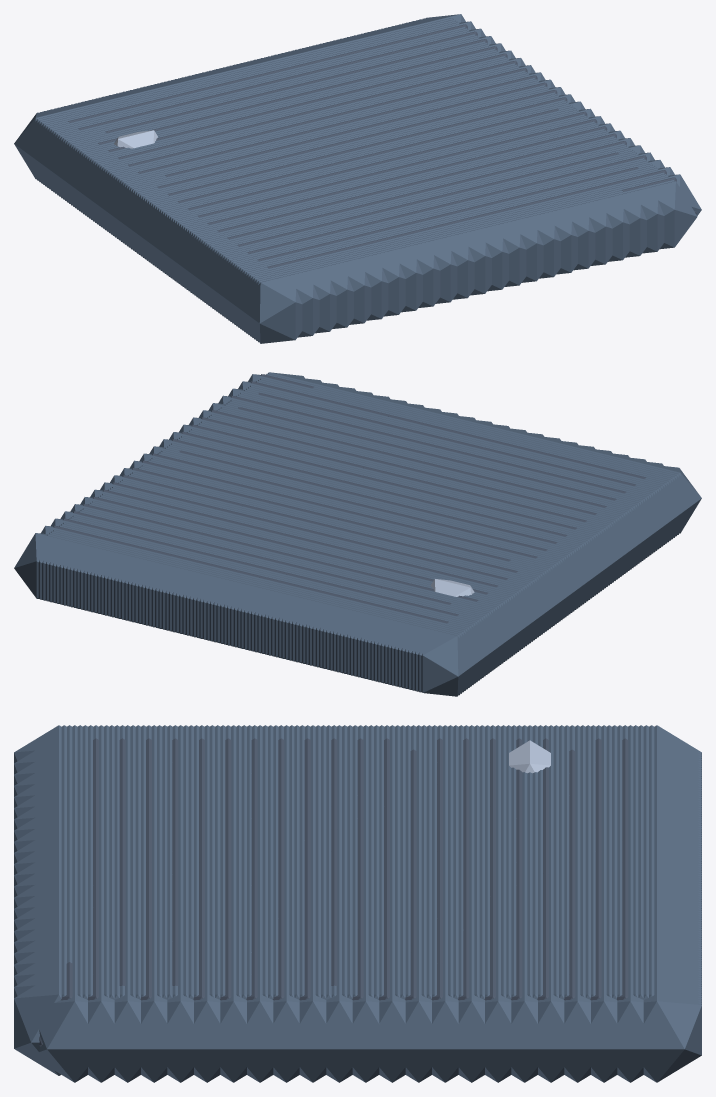
The model's file is Prime_Web_Ulam3D.glb.
3 renders of one model, top to bottom at view 1: azimuth 30°, elevation 25°; view 2: azimuth 150°, elevation 25°; view 3: azimuth 270°, elevation 25°, orthographic. The views are drawn at different scales.
Visible parts, largest first — view 1: grid_x_-56_57, grid_x_54_57, grid_x_14_57, grid_x_49_57, grid_x_-36_57, grid_x_-1_57, grid_x_24_57, grid_x_-21_57, grid_x_-11_57, grid_x_34_57, grid_x_-26_57, grid_x_-46_57 (+17 smaller); view 2: grid_x_-56_-56, grid_z_57_-56, grid_x_-56_57, grid_x_-56_0, grid_x_29_-56, grid_x_4_-56, grid_x_-21_-56, grid_z_-45_-56, grid_x_-56_-53, grid_x_-6_-56, grid_z_52_-56, grid_x_19_-56 (+17 smaller); view 3: grid_z_57_-56, grid_z_57_54, grid_z_57_-1, grid_z_57_9, grid_z_57_34, grid_z_57_-46, grid_x_54_57, grid_z_57_49, grid_z_57_4, grid_z_57_-21, grid_z_57_-31, grid_z_57_-6 (+37 smaller).
Boxes of the visible parts, left/top/right/bottom form: grid_x_-56_57: left=241, top=274, right=302, bottom=343; grid_x_54_57: left=640, top=181, right=697, bottom=249; grid_x_14_57: left=502, top=215, right=543, bottom=282; grid_x_49_57: left=623, top=185, right=664, bottom=253; grid_x_-36_57: left=329, top=257, right=371, bottom=324; grid_x_-1_57: left=451, top=227, right=491, bottom=295; grid_x_24_57: left=538, top=206, right=577, bottom=274; grid_x_-21_57: left=381, top=244, right=422, bottom=312; grid_x_-11_57: left=417, top=236, right=457, bottom=303; grid_x_34_57: left=574, top=198, right=612, bottom=265; grid_x_-26_57: left=365, top=248, right=405, bottom=316; grid_x_-46_57: left=295, top=265, right=336, bottom=333; grid_x_-56_-56: left=421, top=627, right=478, bottom=696; grid_z_57_-56: left=14, top=533, right=62, bottom=598; grid_x_-56_57: left=645, top=464, right=701, bottom=533; grid_x_-56_0: left=546, top=550, right=588, bottom=615; grid_x_29_-56: left=131, top=556, right=166, bottom=622; grid_x_4_-56: left=216, top=577, right=250, bottom=643; grid_x_-21_-56: left=302, top=598, right=336, bottom=663; grid_z_-45_-56: left=384, top=618, right=418, bottom=683; grid_x_-56_-53: left=427, top=623, right=484, bottom=692; grid_x_-6_-56: left=250, top=586, right=284, bottom=651; grid_z_52_-56: left=52, top=537, right=86, bottom=603; grid_x_19_-56: left=165, top=565, right=198, bottom=630; grid_z_57_-56: left=629, top=991, right=701, bottom=1082; grid_z_57_54: left=30, top=988, right=101, bottom=1082; grid_z_57_-1: left=338, top=990, right=392, bottom=1082; grid_z_57_9: left=285, top=992, right=338, bottom=1082; grid_z_57_34: left=153, top=998, right=206, bottom=1082; grid_z_57_-46: left=576, top=996, right=629, bottom=1082; grid_x_54_57: left=14, top=983, right=61, bottom=1075; grid_z_57_49: left=73, top=992, right=127, bottom=1082; grid_z_57_4: left=312, top=994, right=366, bottom=1082; grid_z_57_-21: left=444, top=999, right=497, bottom=1082; grid_z_57_-31: left=497, top=988, right=551, bottom=1082; grid_z_57_-6: left=365, top=988, right=419, bottom=1082.
Size of the model in its own units: 13 by 1.86 by 13.
